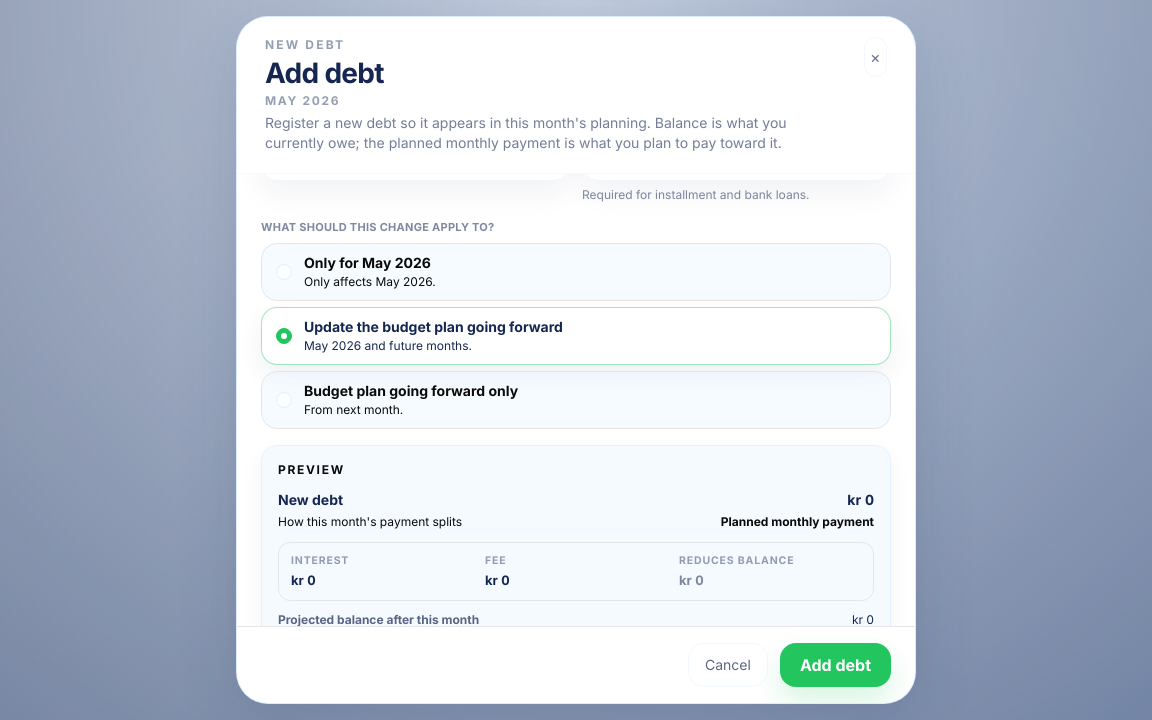
Test: DebtCreateModal › switches preview copy to plan-aware variants under budgetPlanOnly so the preview never claims a current-month effect that won't happen
(page scrolled)
expect the text "How this month's payment splits" is shown: met, box [278,514,462,530]
expect the text "How a planned month's payment splits" is not shown: met
Step 1. Click the radio button labelled "Budget plan going forward only From next month." → (411, 390), box [261,371,891,429]
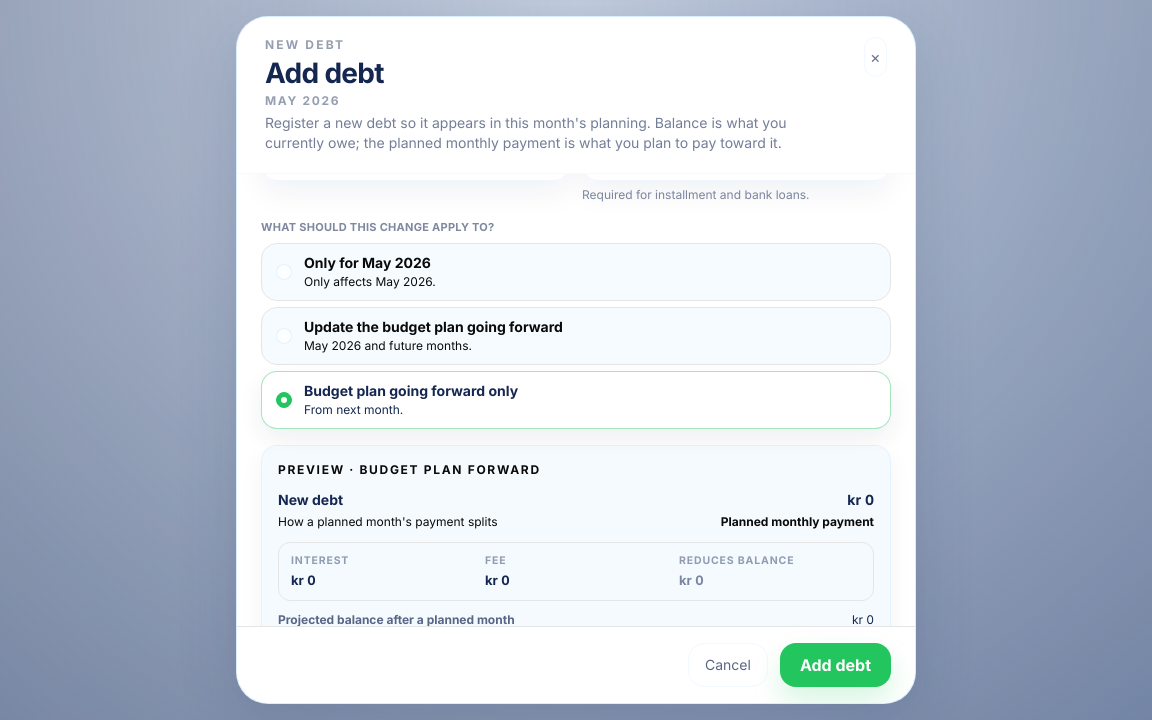
expect the text "How a planned month's payment splits" is shown: met, box [278,514,498,530]
expect the text "How this month's payment splits" is gone: met
expect the text "Projected balance after a planned month" is shown: met, box [278,611,515,626]
